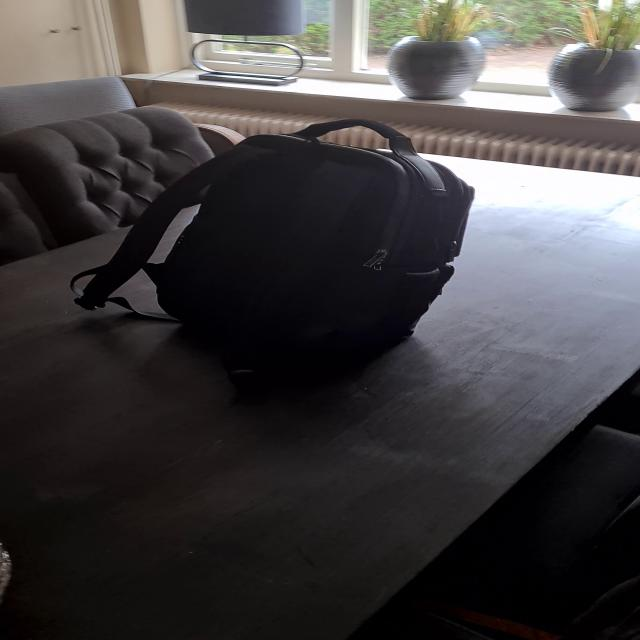backpack: (52, 106, 487, 388)
